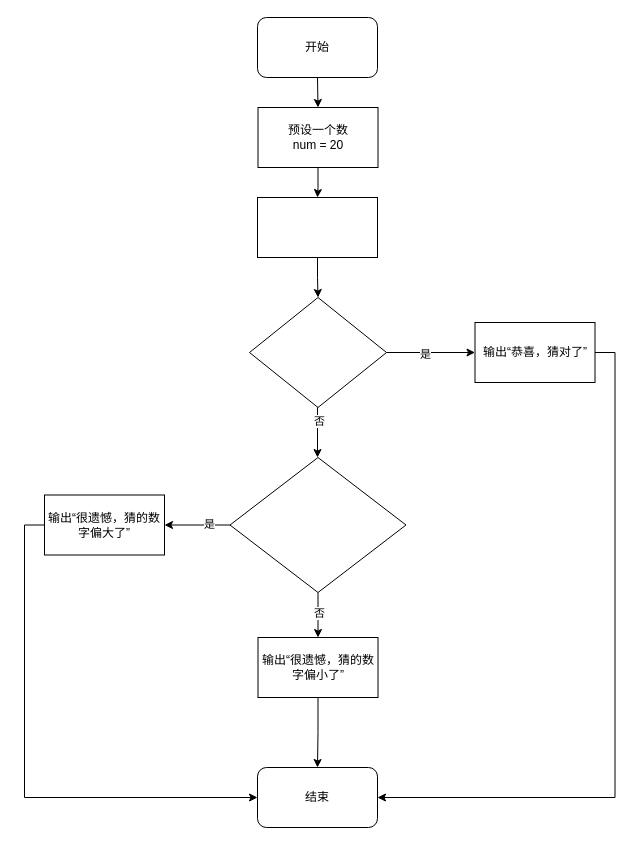
This 641x845 diagram has some shape labels left out. Each missing label, with the centre of its shape:
"输入一个数" belongs at pixel 317 227.
"输入的数与预设的数是否相同" belongs at pixel 317 352.
"输入的数大于预设的数" belongs at pixel 317 524.
